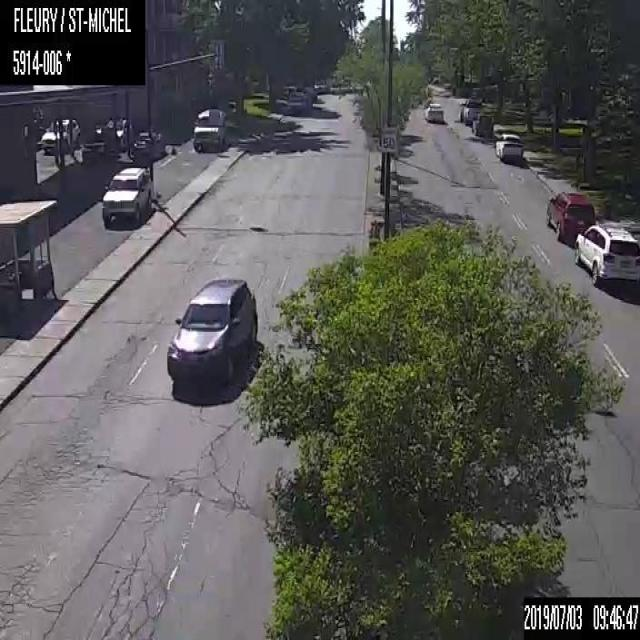vehicle: (165, 276, 257, 383), (574, 220, 639, 290), (100, 163, 151, 230), (544, 188, 596, 244), (194, 104, 224, 154), (39, 117, 80, 151), (130, 128, 166, 160), (105, 116, 130, 150), (494, 130, 522, 160), (459, 97, 483, 125), (471, 111, 494, 137), (422, 100, 444, 121), (286, 91, 306, 113)
